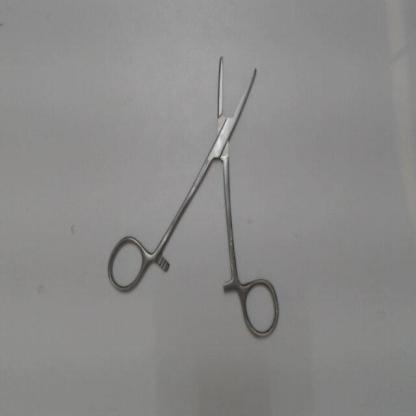Mayo Needle Holder: (102, 39, 286, 344)
